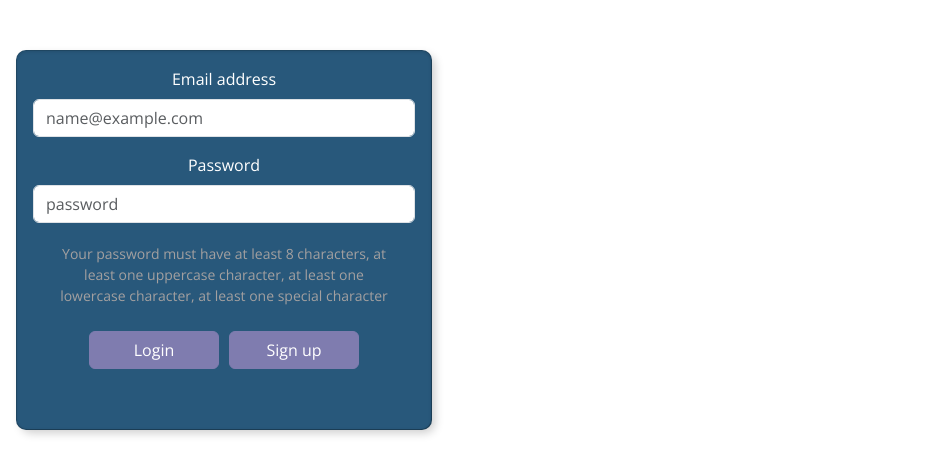
Login Component › should show toast on successful sign up
In the field with placeholder "name@example.com": (224, 118) [33,99,415,137], type "valid@valid.com"
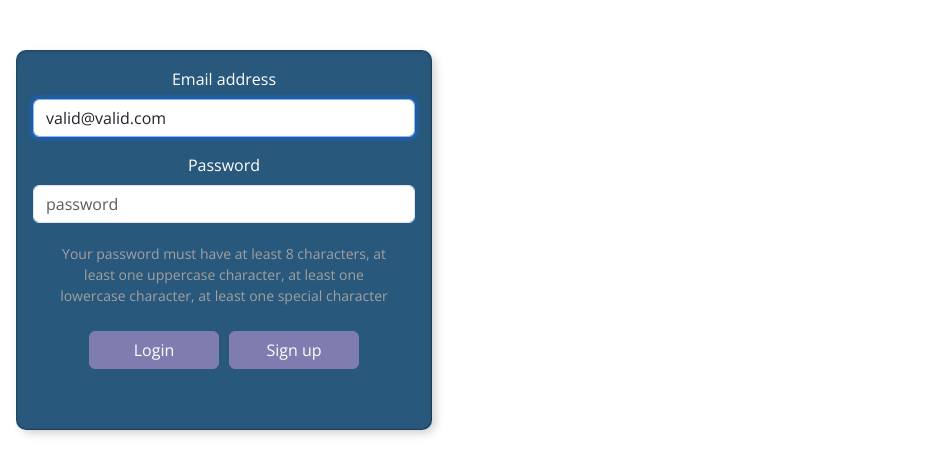
In the password field with placeholder "Password": (224, 204) [33,185,415,223], type "Password123!"
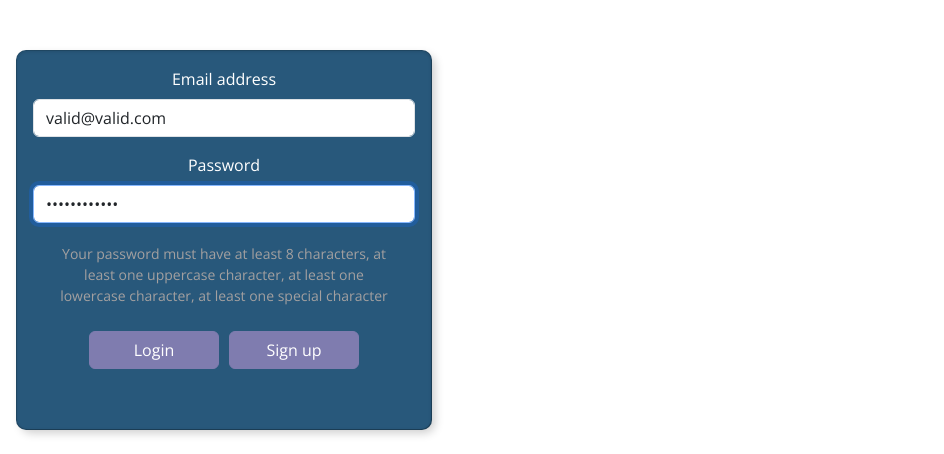
Click the button "Sign up": (294, 350) [229,331,359,369]
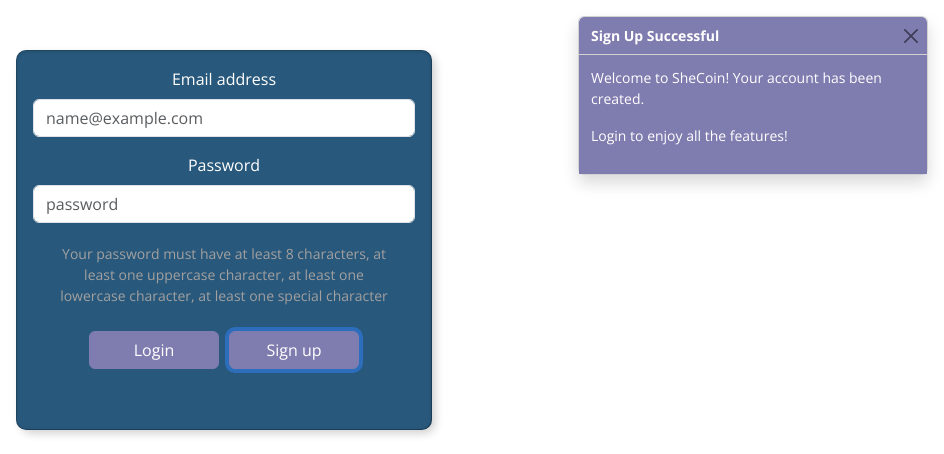
Expected: the text "Welcome to SheCoin! Your account has been created." is shown, [591,67,915,109]
Expected: the text "Login to enjoy all the features!" is shown, [591,126,788,145]
